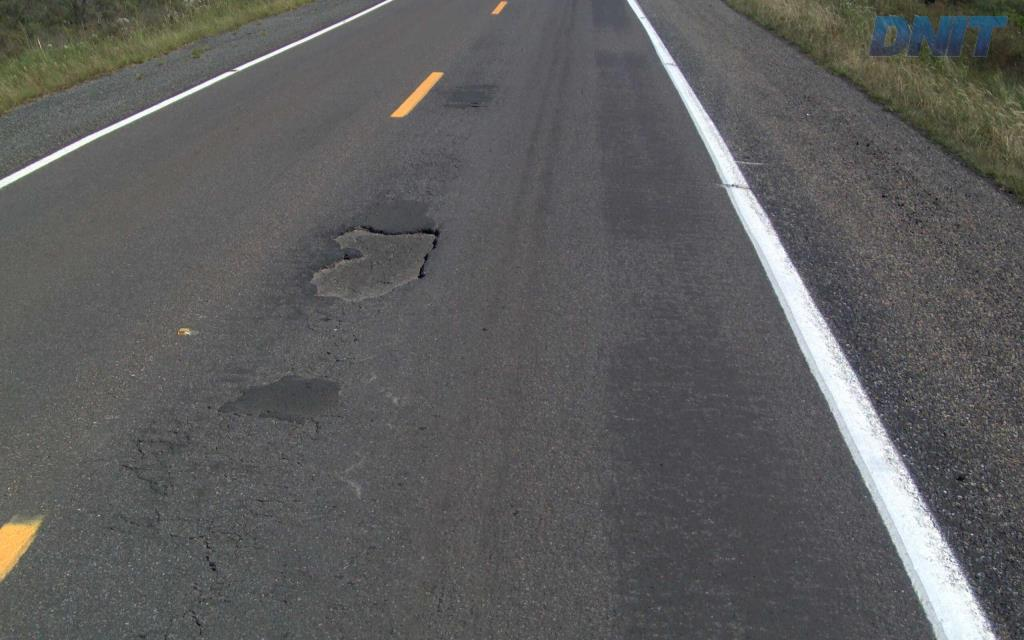pothole: (305, 216, 443, 307)
